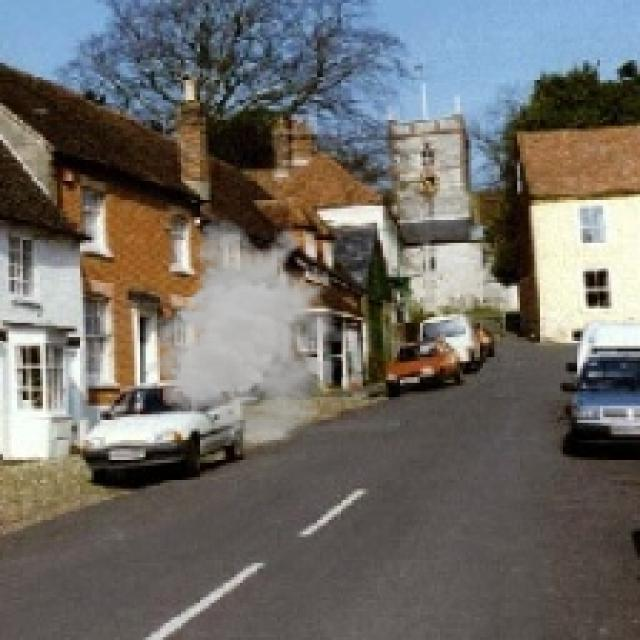smoke: (146, 217, 360, 446)
